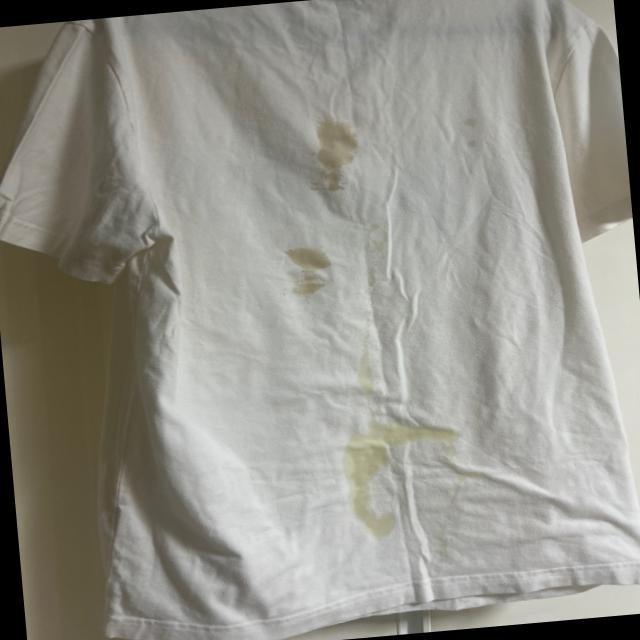stain: (338, 444, 405, 540), (356, 412, 460, 459), (304, 116, 364, 192), (286, 240, 334, 294), (352, 332, 388, 397), (452, 108, 496, 157), (365, 228, 394, 252)
